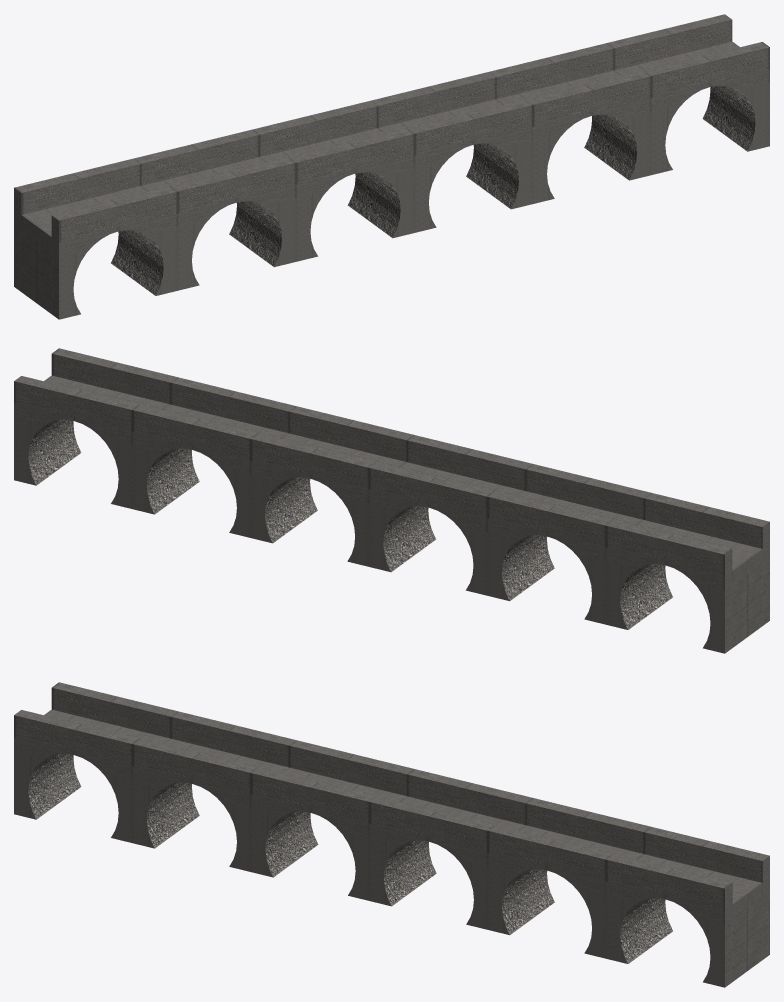
Rendered from bridge.fbx.
3 views of the same model, one above another, from view 1: azimuth 30°, elevation 25°; view 2: azimuth 150°, elevation 25°; view 3: azimuth 330°, elevation 25° (orthographic).
Parts seen in each view (by area): view 1: 1, 3, 2, 6, 4, 5; view 2: 1, 6, 4, 2, 3, 5; view 3: 6, 2, 3, 1, 4, 5.
Boxes of the visible parts, left/top/right/bottom form: 1: left=14, top=158, right=178, bottom=319; 3: left=133, top=129, right=296, bottom=290; 2: left=370, top=72, right=533, bottom=232; 6: left=606, top=14, right=769, bottom=174; 4: left=252, top=101, right=415, bottom=261; 5: left=489, top=43, right=651, bottom=203; 1: left=605, top=492, right=769, bottom=653; 6: left=14, top=348, right=177, bottom=509; 4: left=368, top=435, right=532, bottom=595; 2: left=250, top=406, right=413, bottom=566; 3: left=487, top=464, right=650, bottom=624; 5: left=132, top=377, right=294, bottom=537; 6: left=605, top=826, right=769, bottom=987; 2: left=369, top=769, right=532, bottom=929; 3: left=132, top=711, right=295, bottom=871; 1: left=14, top=682, right=177, bottom=843; 4: left=251, top=740, right=413, bottom=900; 5: left=487, top=798, right=650, bottom=958.
Size of the model in its own units: 10778 by 1435 by 1183.
